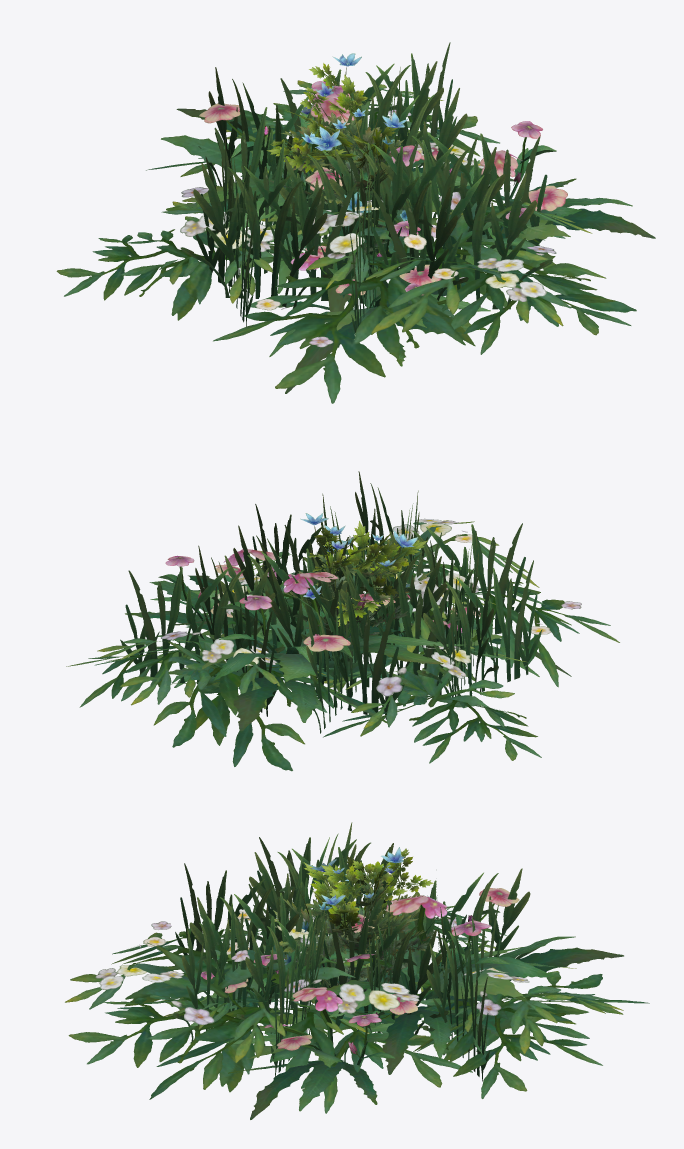
File: huacao.fbx
3 renders of one model, top to bottom at view 1: azimuth 30°, elevation 25°; view 2: azimuth 150°, elevation 25°; view 3: azimuth 270°, elevation 25°, orthographic. The views are drawn at different scales.
Parts seen in each view (by area): view 1: grass1, flowers3, flowers2, flowers1; view 2: grass1, flowers3, flowers2, flowers1; view 3: flowers3, grass1, flowers2, flowers1.
Boxes of the visible parts, x1=… form: grass1: x1=180, y1=42, x2=556, y2=333; flowers3: x1=56, y1=74, x2=636, y2=403; flowers2: x1=161, y1=81, x2=655, y2=393; flowers1: x1=266, y1=53, x2=407, y2=252; grass1: x1=120, y1=471, x2=542, y2=733; flowers3: x1=66, y1=518, x2=619, y2=771; flowers2: x1=125, y1=549, x2=571, y2=731; flowers1: x1=282, y1=513, x2=432, y2=637; flowers3: x1=65, y1=905, x2=649, y2=1113; grass1: x1=173, y1=822, x2=541, y2=1081; flowers2: x1=161, y1=888, x2=623, y2=1119; flowers1: x1=273, y1=847, x2=446, y2=991.
Size of the model in its own units: 2.6 by 1.06 by 2.97.
1 material, 1 textured.
